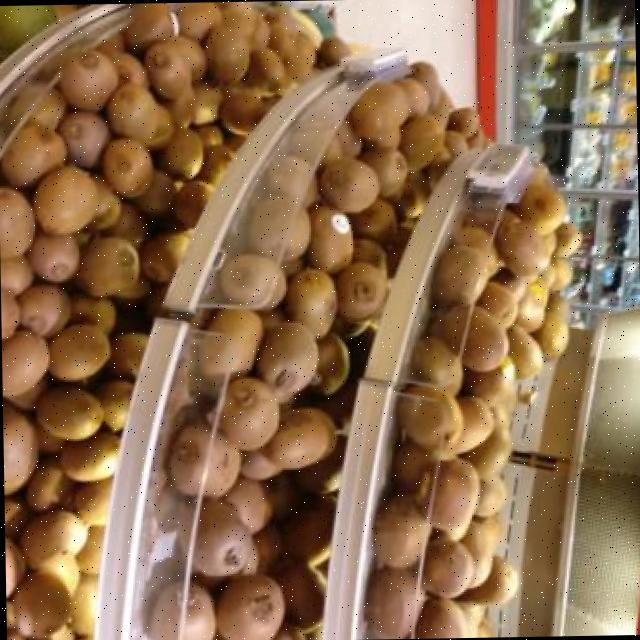kiwi: (168, 425, 239, 497), (257, 322, 315, 401), (216, 574, 284, 640), (192, 501, 251, 576), (106, 83, 173, 148), (262, 408, 333, 469), (219, 377, 278, 450), (396, 385, 462, 449), (199, 310, 262, 377), (32, 166, 94, 233), (373, 496, 429, 568), (247, 196, 310, 260), (0, 123, 64, 185), (18, 510, 87, 567), (348, 82, 408, 147), (218, 253, 286, 310), (12, 572, 70, 638), (365, 572, 422, 639), (147, 583, 214, 640), (75, 238, 137, 296), (285, 268, 336, 338), (36, 387, 102, 440), (281, 499, 333, 566), (59, 50, 117, 110), (494, 212, 549, 275), (318, 157, 379, 213), (431, 245, 487, 305), (48, 325, 108, 381), (430, 460, 478, 529), (2, 401, 37, 494), (0, 329, 47, 397), (306, 206, 352, 274), (100, 137, 152, 197), (335, 262, 386, 322), (58, 431, 118, 481), (461, 306, 507, 371), (292, 436, 345, 492), (59, 110, 109, 168), (457, 556, 517, 604), (510, 184, 566, 235), (278, 566, 323, 629), (142, 40, 190, 99), (412, 337, 461, 394), (265, 155, 317, 208), (461, 520, 501, 587), (423, 544, 472, 598), (224, 478, 271, 534), (18, 285, 69, 336), (461, 424, 509, 478), (203, 27, 249, 83), (26, 234, 79, 282), (309, 332, 348, 395), (139, 233, 189, 281), (164, 83, 221, 125), (399, 117, 443, 171), (0, 187, 33, 258), (453, 227, 499, 277), (450, 398, 493, 451), (25, 458, 68, 511), (452, 398, 493, 453), (157, 129, 202, 179), (124, 3, 169, 53), (359, 149, 406, 196), (349, 198, 396, 243), (218, 89, 264, 134), (415, 599, 466, 638), (103, 202, 147, 247), (507, 324, 542, 379), (171, 182, 213, 227), (477, 281, 516, 328), (37, 554, 79, 596), (73, 479, 111, 525), (134, 170, 174, 213), (177, 2, 221, 41), (89, 175, 121, 228), (265, 8, 296, 62), (97, 381, 131, 430), (171, 35, 206, 82), (461, 369, 505, 406), (71, 297, 115, 334), (282, 32, 314, 82), (285, 132, 333, 165), (532, 314, 568, 358), (395, 172, 429, 218), (244, 47, 280, 90), (109, 335, 146, 376), (408, 62, 440, 107), (218, 3, 255, 41), (196, 144, 231, 184), (71, 575, 95, 633), (0, 255, 33, 294), (76, 526, 103, 573), (474, 476, 505, 516), (395, 77, 425, 115), (516, 291, 544, 331), (5, 537, 23, 598), (315, 36, 349, 66), (0, 287, 19, 339), (3, 498, 27, 537), (428, 89, 453, 126), (553, 224, 581, 257), (88, 527, 102, 534)
